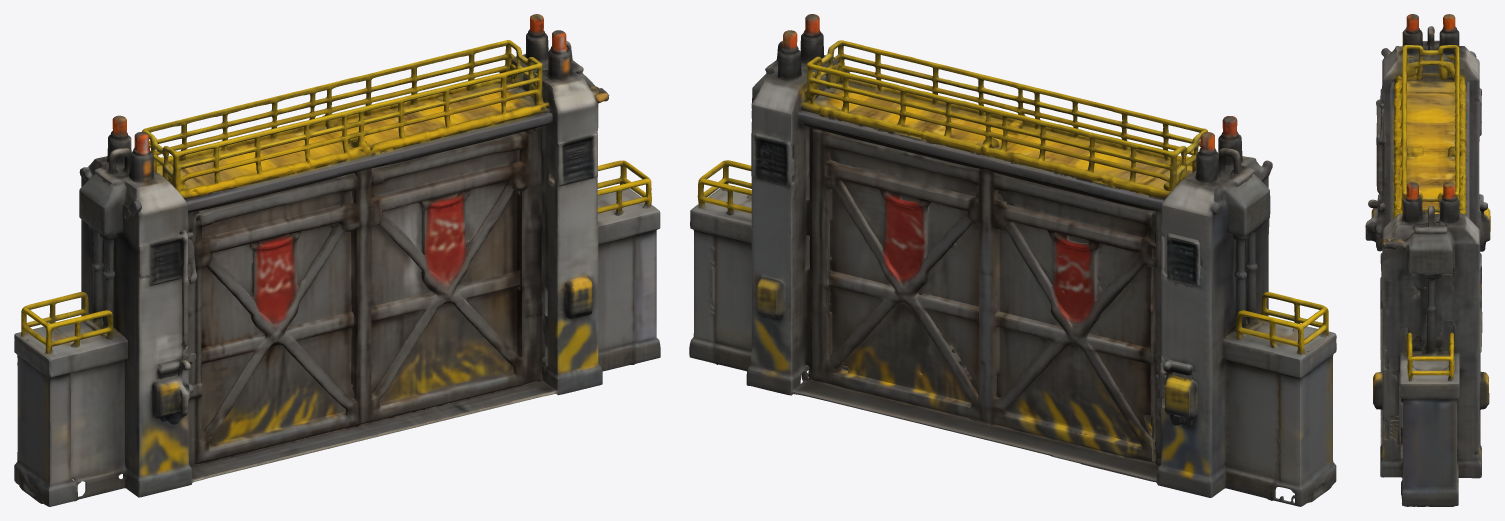
File: gate.glb
The picture shows the model from 3 angles, left to right: view 1: azimuth 30°, elevation 25°; view 2: azimuth 150°, elevation 25°; view 3: azimuth 270°, elevation 25°; orthographic projection. The views are drawn at different scales.
Parts seen in each view (by area): view 1: world; view 2: world; view 3: world.
Boxes of the visible parts, x1=… form: world: x1=14, y1=14, x2=660, y2=506; world: x1=689, y1=14, x2=1336, y2=506; world: x1=1365, y1=14, x2=1490, y2=506.
Bounding box in the file's own units: 8 × 4.31 × 1.71.
1 material, 1 textured.
